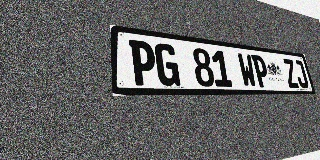1: (210, 50, 232, 87)
8: (191, 47, 215, 87)
G: (154, 43, 181, 86)
J: (292, 60, 309, 88)
P: (129, 40, 157, 86), (251, 55, 271, 87)
W: (237, 53, 257, 87)
Z: (282, 58, 300, 88)
